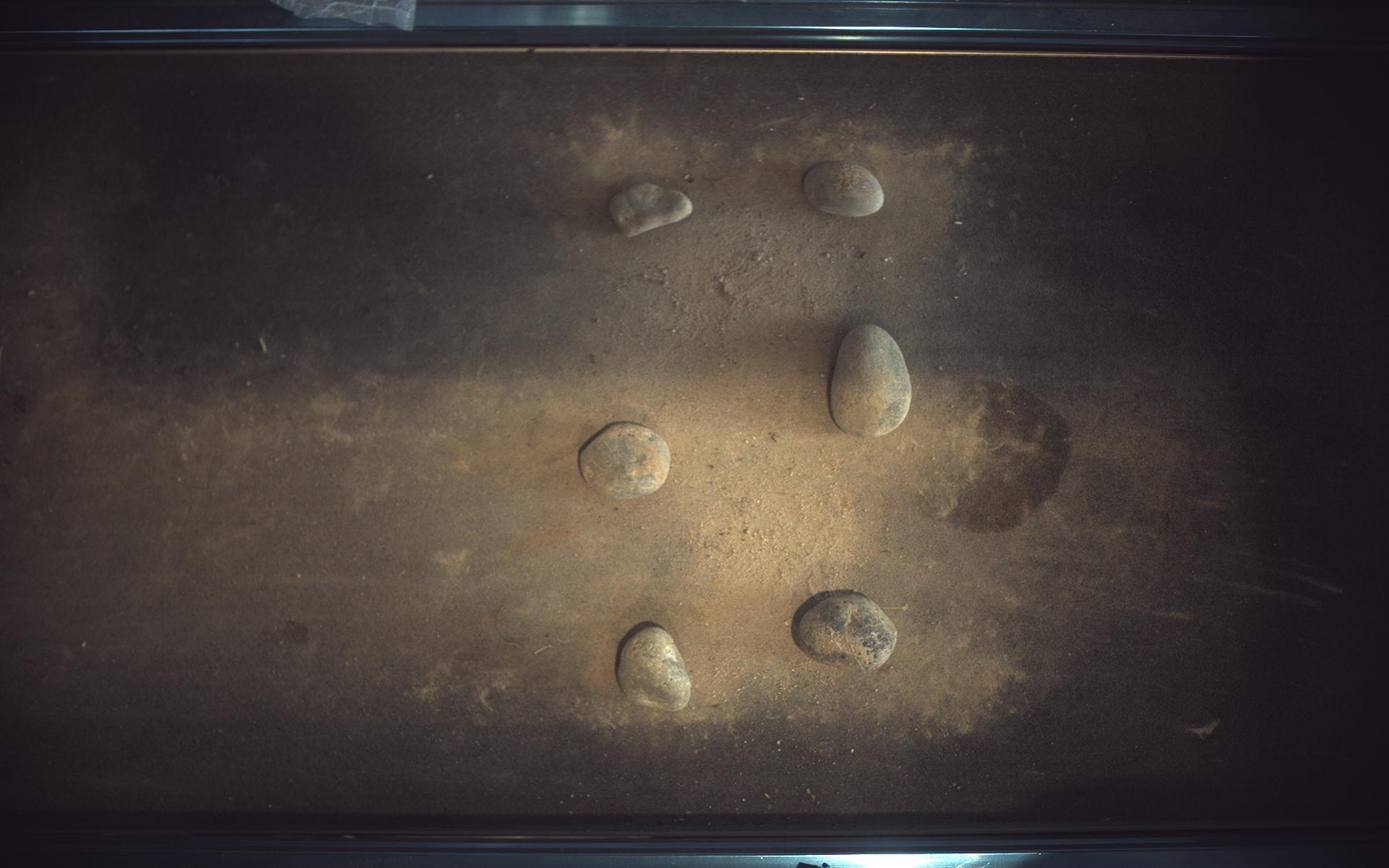stone: (831, 323, 914, 437), (793, 592, 899, 672), (579, 422, 671, 499), (618, 625, 692, 712), (804, 160, 886, 216), (610, 182, 693, 237)
